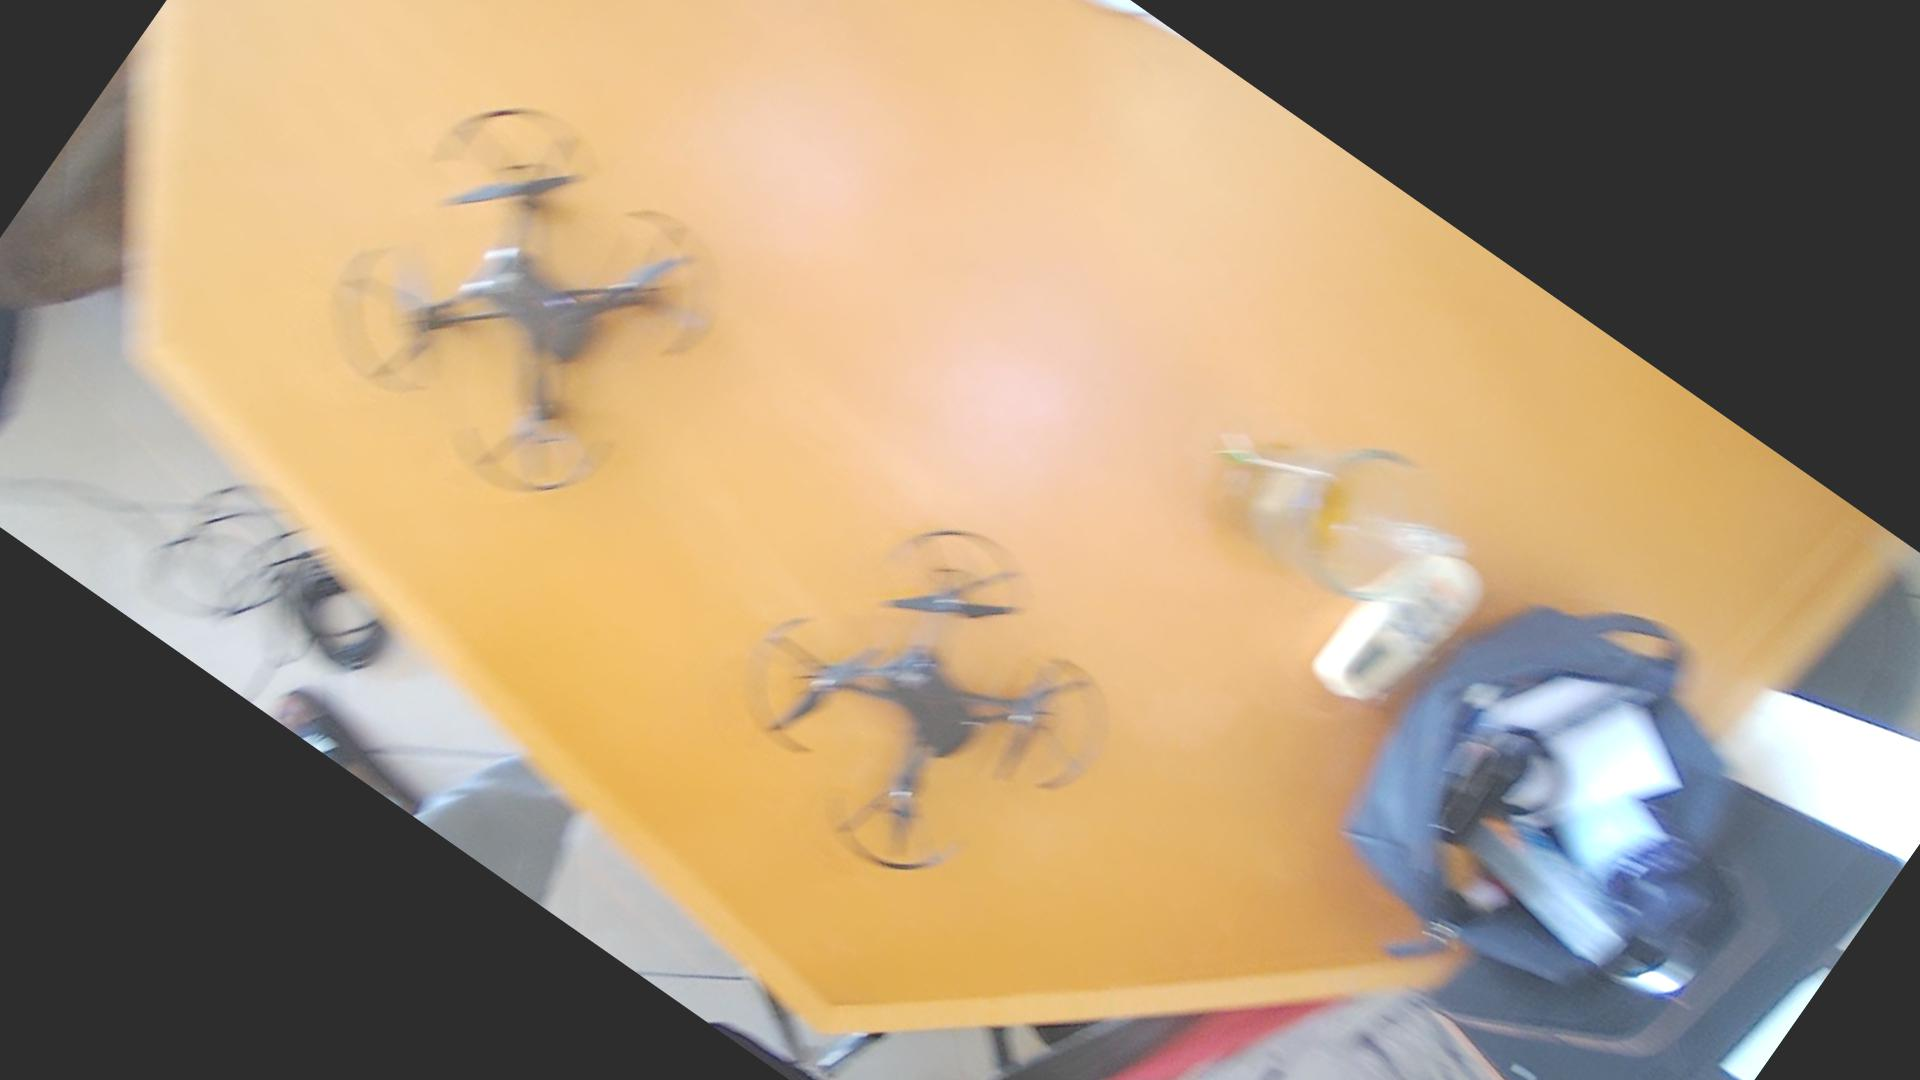dji-tello-edu-drone: (664, 439, 1192, 967), (257, 51, 768, 554)
